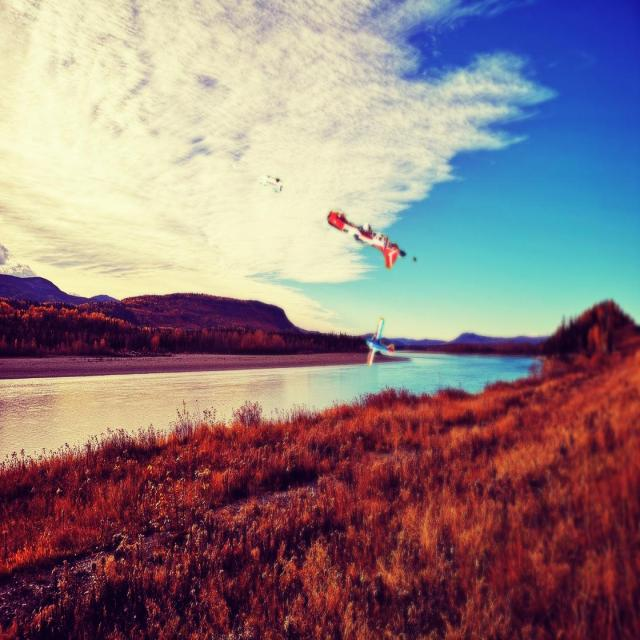airplane: (327, 209, 406, 269), (364, 314, 395, 366)
